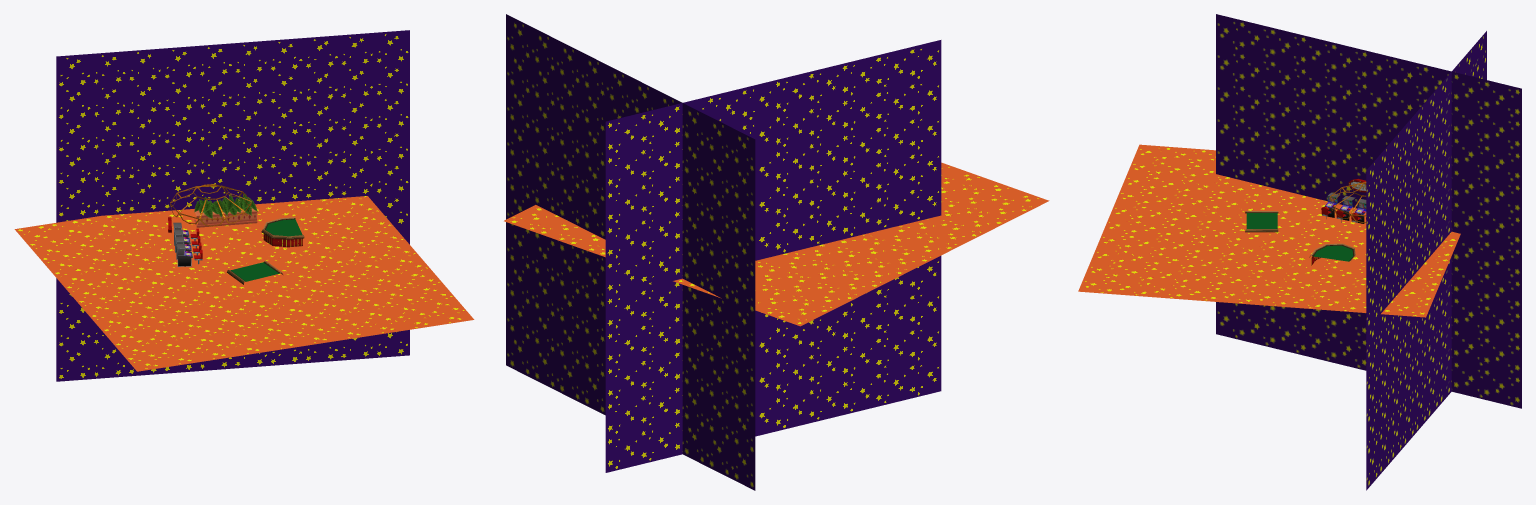
The model's file is blackjack_map.gltf.
3 views of the same model, side by side, from view 1: azimuth 30°, elevation 25°; view 2: azimuth 150°, elevation 25°; view 3: azimuth 270°, elevation 25° (orthographic). The views are drawn at different scales.
Parts seen in each view (by area): view 1: CasinoWall1, CasinoFloor, Chandelier-_material4.001, Leaves-_material3.001, Pot-_material2.001, Tables1Top-_material8.001, Machines-_material6.001; view 2: CasinoWall2, CasinoWall1, CasinoFloor; view 3: CasinoWall2, CasinoFloor, CasinoWall1, Tables1Top-_material8.001.
Boxes of the visible parts, x1,y1,x2,y2 form: CasinoWall1: [56, 30, 409, 381]; CasinoFloor: [14, 196, 474, 371]; Chandelier-_material4.001: [170, 184, 251, 226]; Leaves-_material3.001: [194, 193, 257, 218]; Pot-_material2.001: [194, 207, 257, 227]; Tables1Top-_material8.001: [227, 260, 282, 284]; Machines-_material6.001: [173, 222, 192, 266]; CasinoWall2: [605, 40, 941, 472]; CasinoWall1: [506, 14, 755, 490]; CasinoFloor: [504, 162, 1049, 326]; CasinoWall2: [1216, 14, 1521, 408]; CasinoFloor: [1078, 144, 1460, 317]; CasinoWall1: [1366, 31, 1486, 490]; Tables1Top-_material8.001: [1245, 211, 1278, 232].
Size of what is drawn, in the model's own units: 24.96 by 20 by 25.12.
10 materials, 10 textured.
